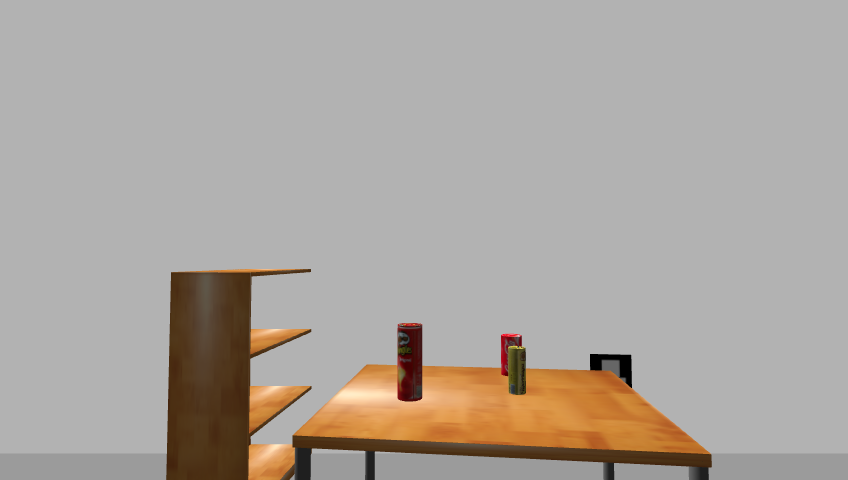aruco marker: (586, 352, 636, 392)
biscuits pack: (507, 346, 527, 396)
bookshelf: (163, 266, 319, 480)
coke can: (499, 333, 523, 375)
dinner table: (286, 362, 719, 479)
pringles can: (395, 322, 424, 404)
